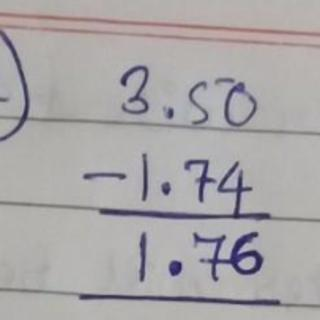.: (162, 258, 185, 276), (158, 180, 175, 198), (160, 104, 176, 120)
0: (224, 82, 257, 129)
1: (136, 230, 150, 280), (138, 151, 150, 201)
3: (119, 64, 154, 117)
4: (218, 161, 252, 216)
5: (186, 81, 213, 126)
6: (232, 230, 264, 276)
7: (189, 229, 228, 281), (187, 154, 214, 204)
